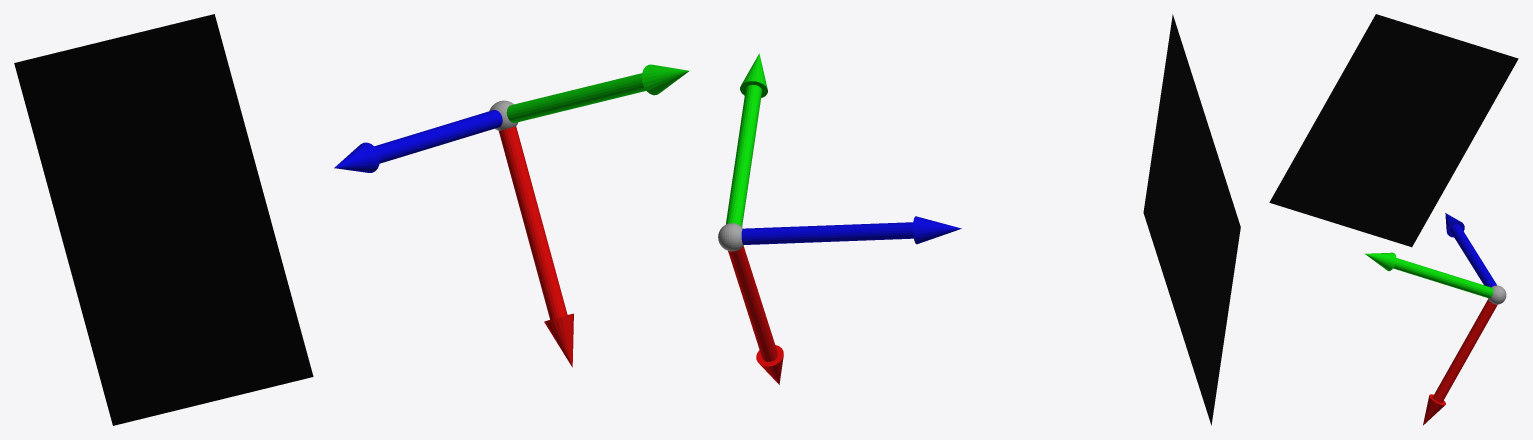
The picture shows the model from 3 angles, left to right: view 1: azimuth 30°, elevation 25°; view 2: azimuth 150°, elevation 25°; view 3: azimuth 270°, elevation 25°; orthographic projection. The views are drawn at different scales.
Bounding box in the file's own units: 0.3041 × 0.2529 × 0.1949.
